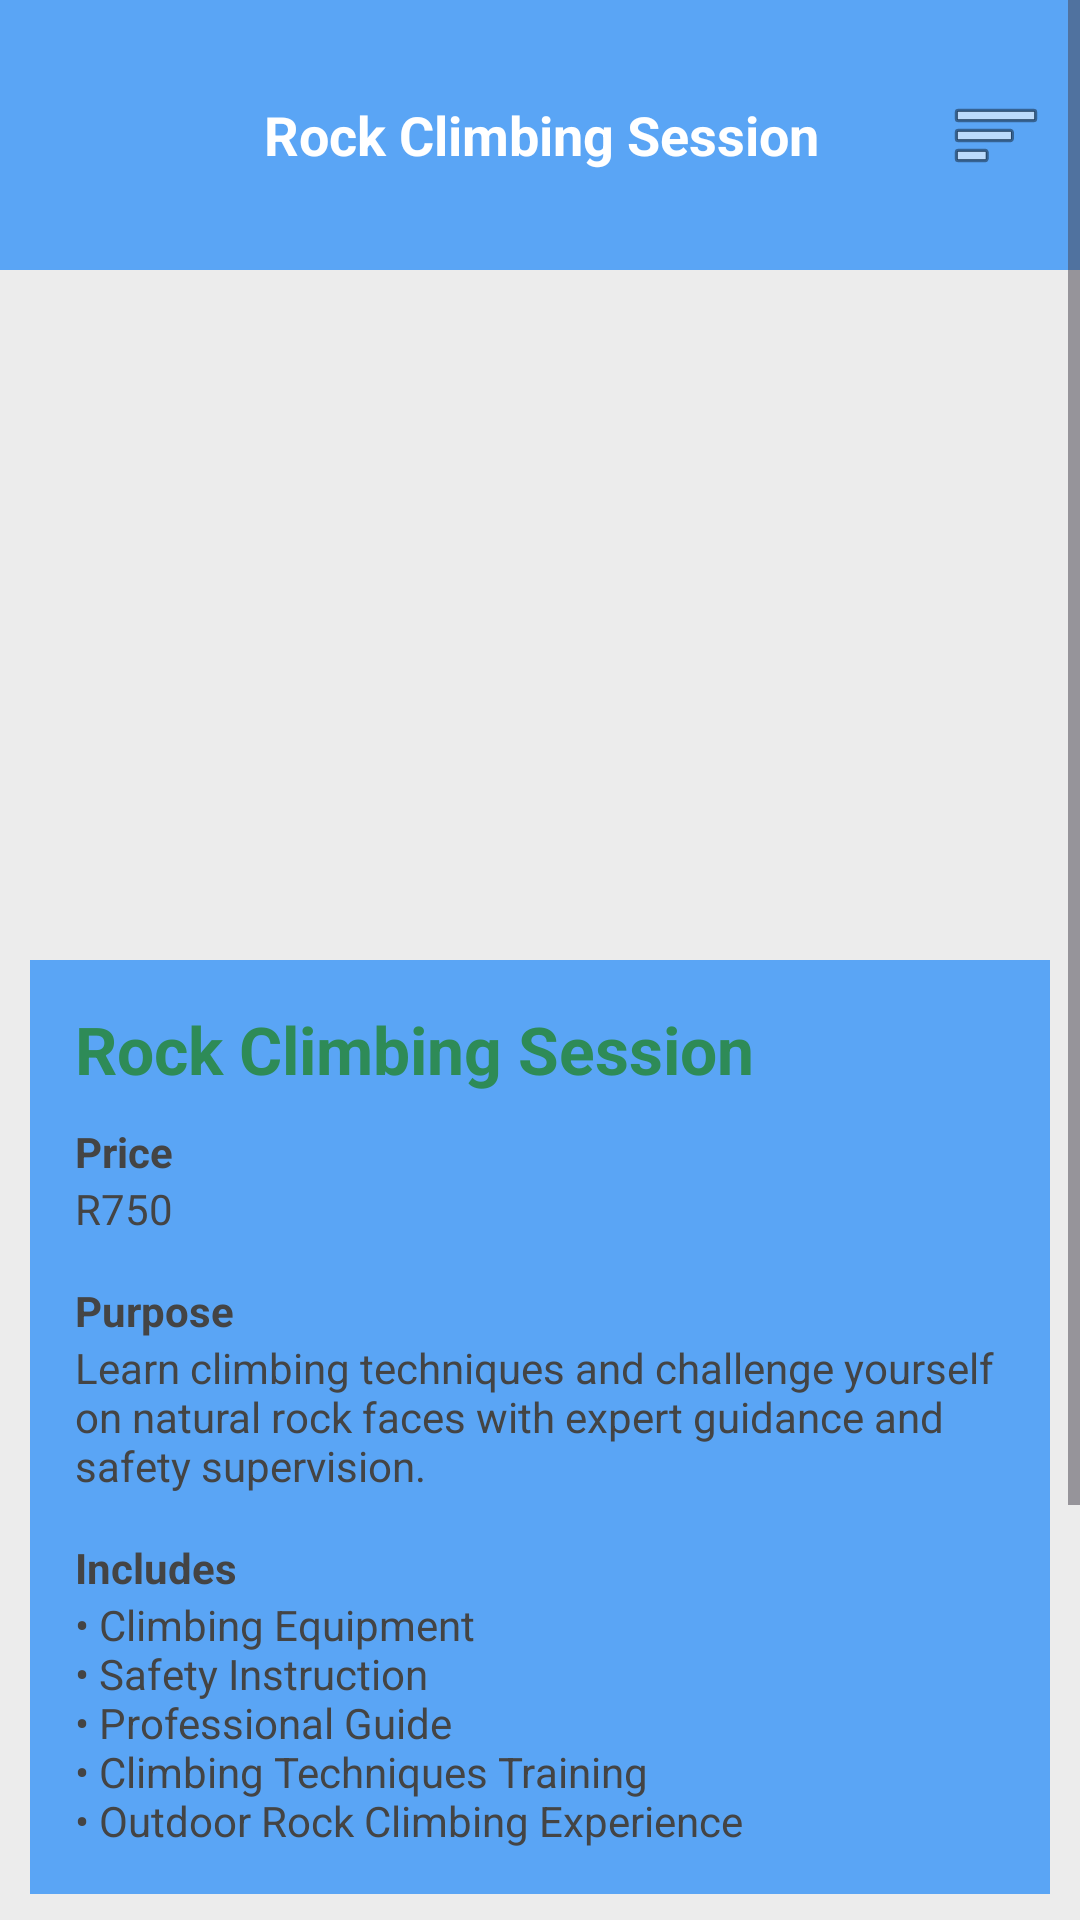

Point at icon controls on the screen. Image size 1080*1920, points as [x,y].
sort by size: [996,135]
